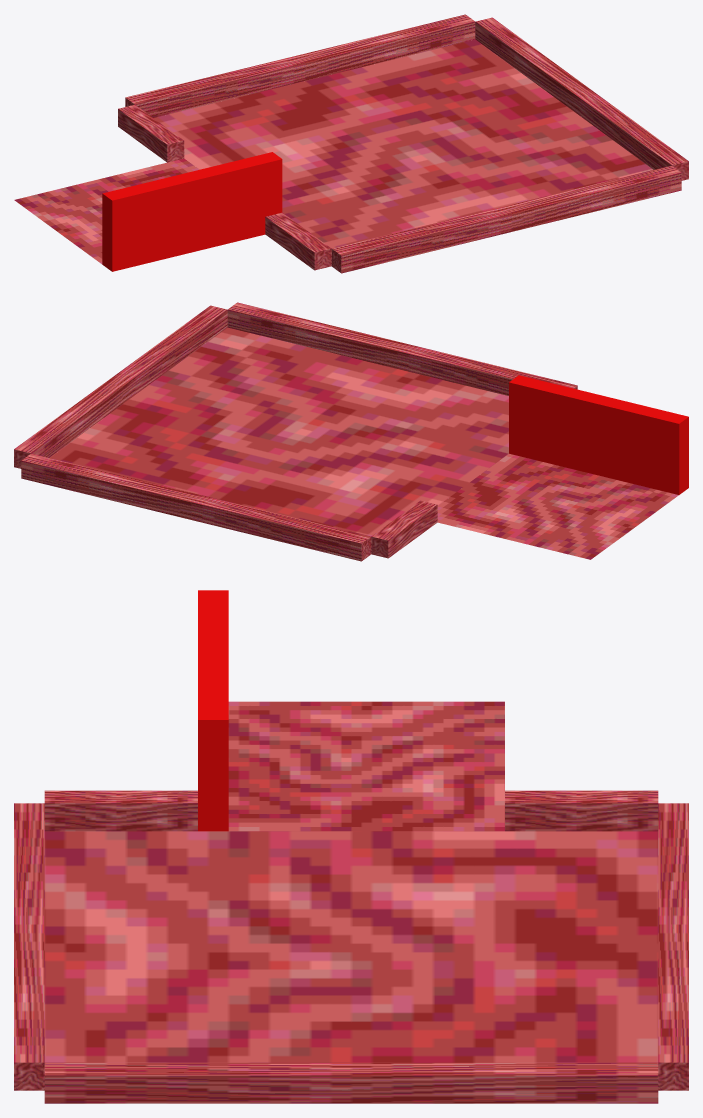
Rendered from StartRoom Nivel1.fbx.
The picture shows the model from 3 angles, top to bottom: view 1: azimuth 30°, elevation 25°; view 2: azimuth 150°, elevation 25°; view 3: azimuth 270°, elevation 25°; orthographic projection. The views are drawn at different scales.
Visible parts, largest first — view 1: Ground, Door, Wall__2_, Wall__3_, Wall__7_, GameObject, Wall__6_, Wall__5_; view 2: Ground, GameObject, Door, Wall__3_, Wall__2_, Wall__7_, Wall__5_; view 3: Ground, GameObject, Wall__7_, Wall__2_, Wall__3_, Door, Wall__5_, Wall__6_.
Boxes of the visible parts, x1=… form: Ground: x1=153, y1=39, x2=653, y2=248; Door: x1=102, y1=152, x2=282, y2=271; Wall__2_: x1=331, y1=165, x2=681, y2=273; Wall__3_: x1=125, y1=14, x2=475, y2=117; Wall__7_: x1=475, y1=17, x2=688, y2=180; GameObject: x1=14, y1=158, x2=199, y2=264; Wall__6_: x1=265, y1=212, x2=331, y2=270; Wall__5_: x1=118, y1=104, x2=184, y2=162; Ground: x1=49, y1=327, x2=508, y2=536; GameObject: x1=437, y1=453, x2=678, y2=559; Door: x1=509, y1=375, x2=688, y2=494; Wall__3_: x1=21, y1=453, x2=371, y2=561; Wall__2_: x1=227, y1=302, x2=577, y2=395; Wall__7_: x1=14, y1=305, x2=227, y2=468; Wall__5_: x1=371, y1=500, x2=437, y2=558; Ground: x1=44, y1=831, x2=658, y2=1062; GameObject: x1=228, y1=701, x2=504, y2=831; Wall__7_: x1=44, y1=1062, x2=658, y2=1103; Wall__2_: x1=14, y1=803, x2=44, y2=1090; Wall__3_: x1=658, y1=803, x2=688, y2=1090; Door: x1=198, y1=590, x2=228, y2=831; Wall__5_: x1=505, y1=790, x2=658, y2=831; Wall__6_: x1=44, y1=790, x2=197, y2=831.
Size of what is drawn, in the model's own units: 3100 by 400 by 2200.
Materials: 3 (2 with a texture image).
